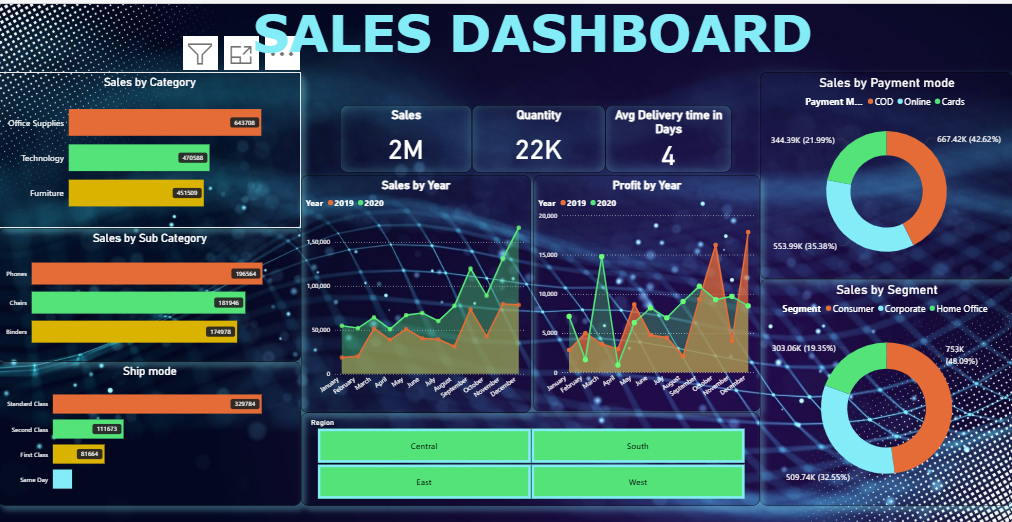

The dashboard page shown, as its layout file describes it:
{"tool":"powerbi","page":{"name":"Page 1","canvas":[1920,1080],"ordinal":0},"visuals":[{"type":"clusteredBarChart","title":"Sales by Category","fields":{"Category":["SuperStore Sales DataSet.Category"],"Y":["Sum(SuperStore Sales DataSet.Sales)"]},"box":[0,221.1,572.6,294.8],"z":0},{"type":"textbox","box":[150.2,82.2,1720.6,138.9],"z":1000},{"type":"clusteredBarChart","title":"Sales by Sub Category","fields":{"Category":["SuperStore Sales DataSet.Sub-Category"],"Y":["Sum(SuperStore Sales DataSet.Sales)"]},"box":[0,515.9,572.6,252.3],"z":2000},{"type":"clusteredBarChart","title":"Ship mode","fields":{"Category":["SuperStore Sales DataSet.Ship Mode"],"Y":["Sum(SuperStore Sales DataSet.Sales)"]},"box":[0,768.2,572.6,272.1],"z":3000},{"type":"areaChart","title":"Sales by Year","fields":{"Y":["Sum(SuperStore Sales DataSet.Sales)"],"Category":["SuperStore Sales DataSet.Order Date.Variation.Date Hierarchy.Month","SuperStore Sales DataSet.Order Date.Variation.Date Hierarchy.Day"],"Series":["SuperStore Sales DataSet.Order Date.Variation.Date Hierarchy.Year"]},"box":[572.6,416.7,433.7,447.9],"z":4000},{"type":"areaChart","title":"Profit by Year","fields":{"Category":["SuperStore Sales DataSet.Order Date.Variation.Date Hierarchy.Month","SuperStore Sales DataSet.Order Date.Variation.Date Hierarchy.Day"],"Series":["SuperStore Sales DataSet.Order Date.Variation.Date Hierarchy.Year"],"Y":["Sum(SuperStore Sales DataSet.Profit)"]},"box":[1012,416.7,428,445],"z":5000},{"type":"donutChart","title":"Sales by Segment","fields":{"Category":["SuperStore Sales DataSet.Segment"],"Y":["Sum(SuperStore Sales DataSet.Sales)"]},"box":[1440,612.3,479.1,428],"z":6000},{"type":"donutChart","title":"Sales by Payment mode","fields":{"Category":["SuperStore Sales DataSet.Payment Mode"],"Y":["Sum(SuperStore Sales DataSet.Sales)"]},"box":[1440,221.1,479.1,391.2],"z":7000},{"type":"slicer","fields":{"Values":["SuperStore Sales DataSet.Region"]},"box":[572.6,864.6,867.4,175.7],"z":8000},{"type":"card","title":"Sales","fields":{"Values":["Sum(SuperStore Sales DataSet.Sales)"]},"box":[646.3,283.5,249.5,127.6],"z":9000},{"type":"card","title":"Quantity","fields":{"Values":["Sum(SuperStore Sales DataSet.Quantity)"]},"box":[895.8,283.5,252.3,127.6],"z":10000},{"type":"card","title":"Avg Delivery time in Days","fields":{"Values":["Avg(SuperStore Sales DataSet.AvgDel)"]},"box":[1148,283.5,238.1,127.6],"z":11000}]}

Visuals, with their boxes on the page's 1920x1080 design canvas (x1, y1, x2, y2). These are canvas units, not pixel positions in the 1012x522 screenshot, which may show the page scaled, cropped or inside an application window:
"Sales by Category" clusteredBarChart: (left=0, top=221, right=573, bottom=516)
textbox: (left=150, top=82, right=1871, bottom=221)
"Sales by Sub Category" clusteredBarChart: (left=0, top=516, right=573, bottom=768)
"Ship mode" clusteredBarChart: (left=0, top=768, right=573, bottom=1040)
"Sales by Year" areaChart: (left=573, top=417, right=1006, bottom=865)
"Profit by Year" areaChart: (left=1012, top=417, right=1440, bottom=862)
"Sales by Segment" donutChart: (left=1440, top=612, right=1919, bottom=1040)
"Sales by Payment mode" donutChart: (left=1440, top=221, right=1919, bottom=612)
slicer - SuperStore Sales DataSet.Region: (left=573, top=865, right=1440, bottom=1040)
"Sales" card: (left=646, top=284, right=896, bottom=411)
"Quantity" card: (left=896, top=284, right=1148, bottom=411)
"Avg Delivery time in Days" card: (left=1148, top=284, right=1386, bottom=411)
